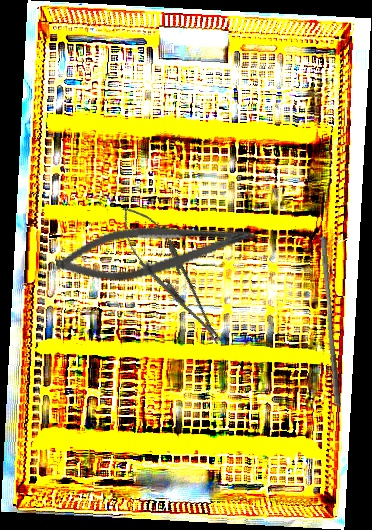Micro Scissor: (51, 202, 261, 295)
Needle Holder: (107, 196, 236, 355)
Pusher: (314, 235, 348, 408)
